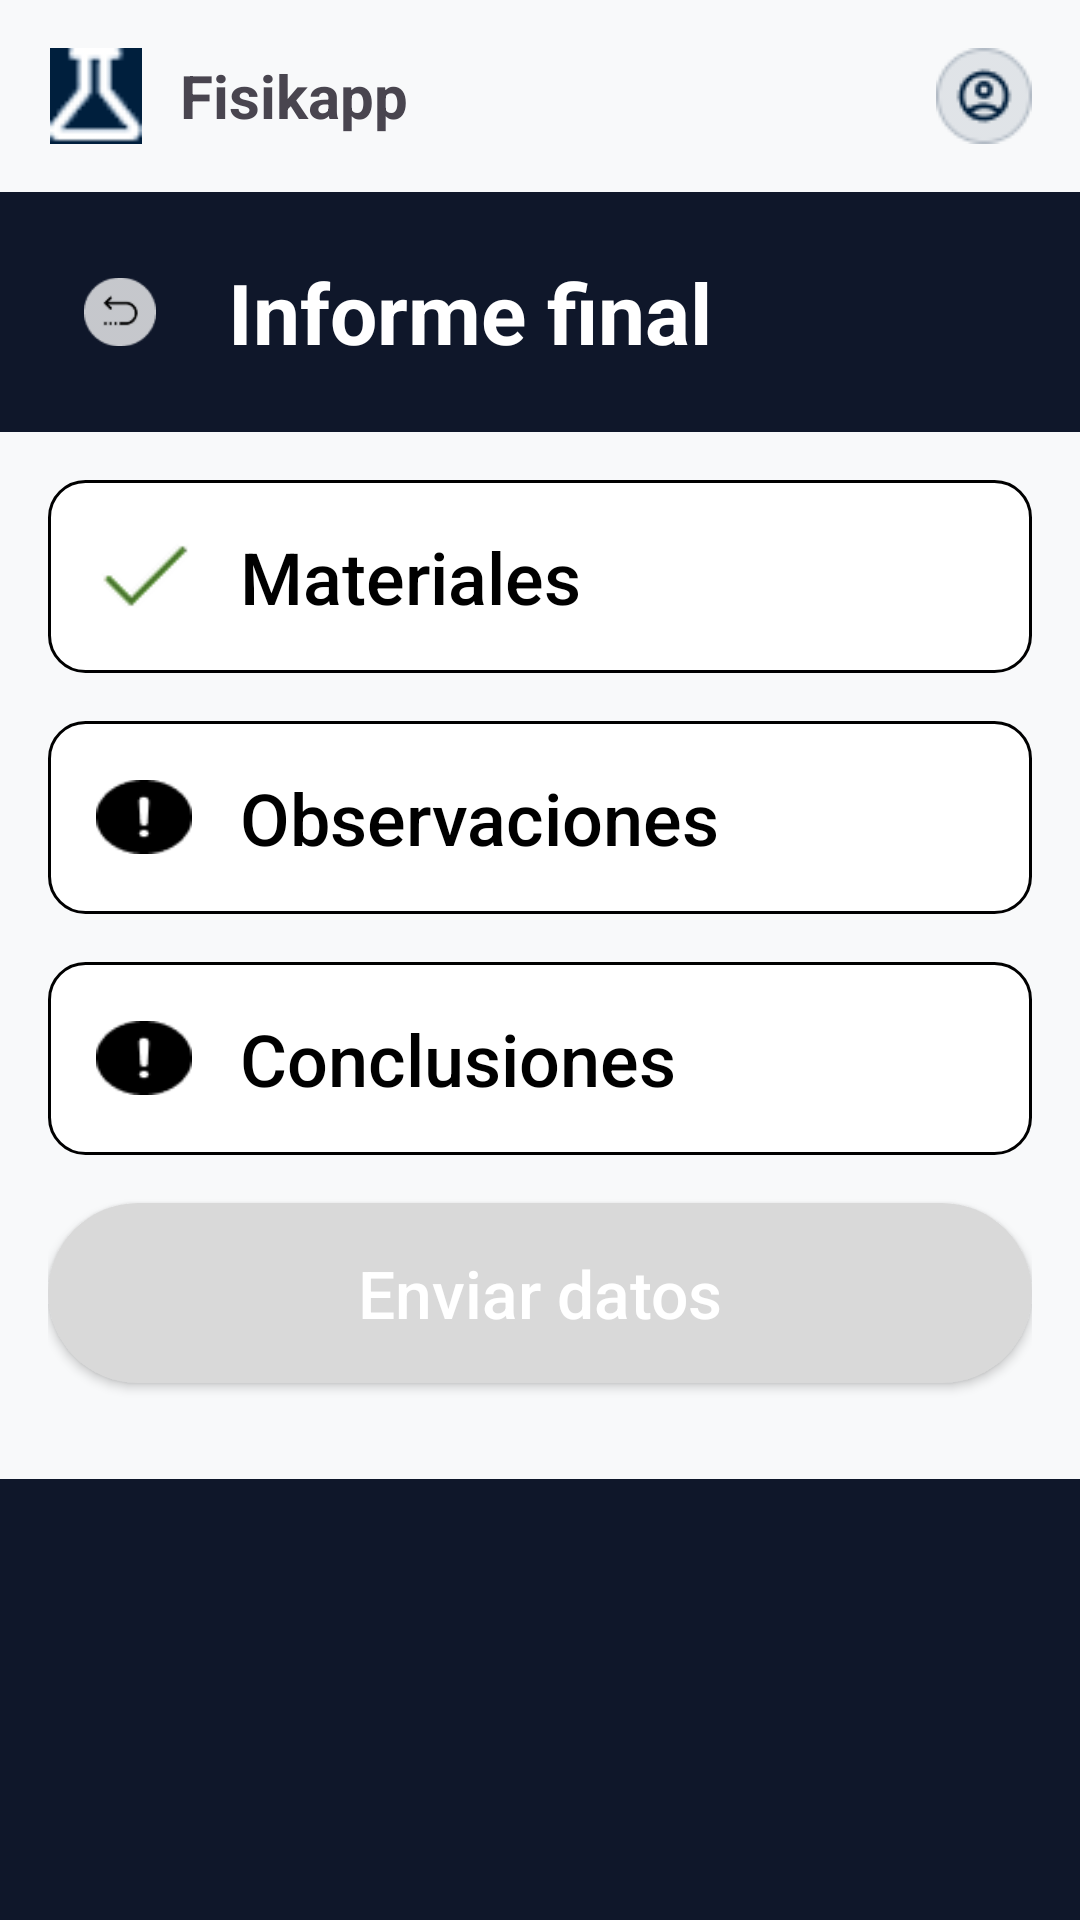

Screen size 1080px×1920px. Icon name, then its center in pixels as [x,y]:
chulo: [146,576]
iconofisik: [96,96]
iconoretroceder: [120,312]
iconousuario: [984,96]
signoexclamacion: [144,817], [144,1058]
